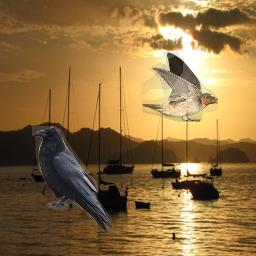Crow: (32, 126, 114, 234)
Swallow: (141, 52, 218, 122)
